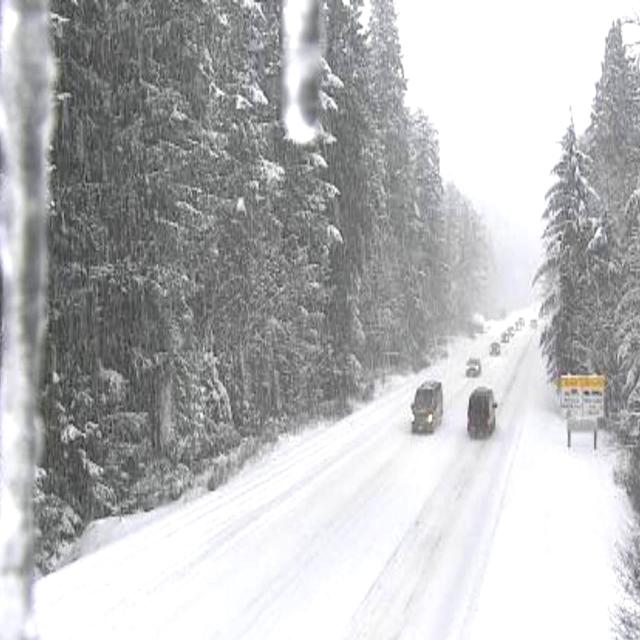Car: (464, 353, 482, 378), (487, 342, 500, 358), (498, 332, 508, 344)
Van: (408, 381, 442, 438), (466, 387, 499, 440)
